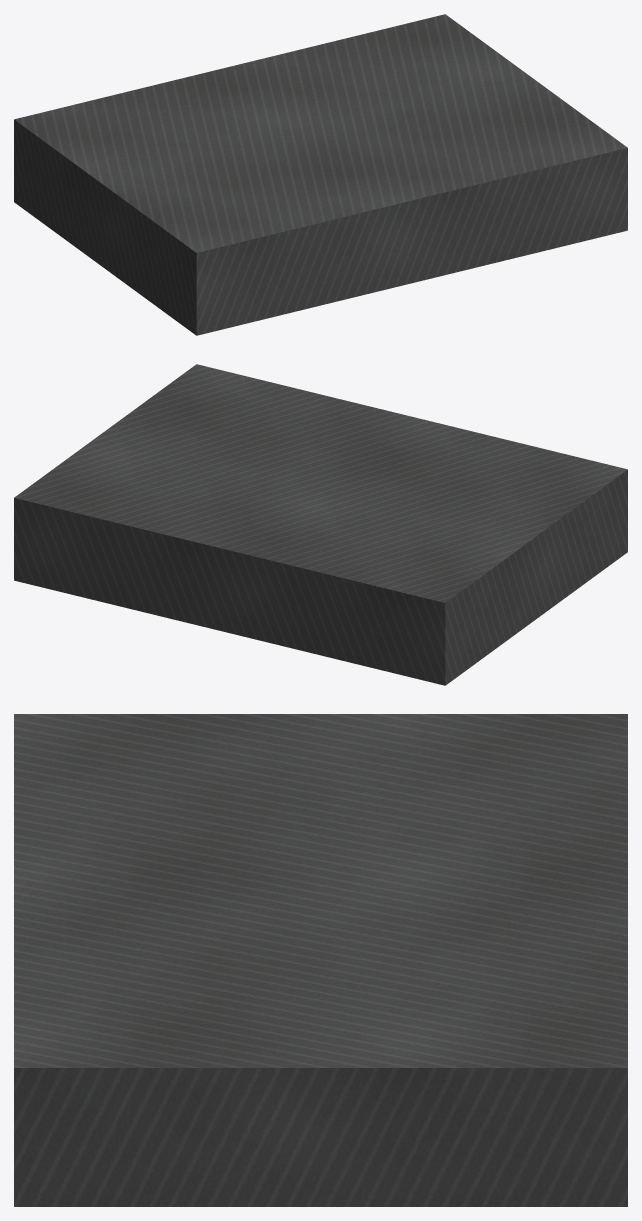
The model's file is binder_v3.glb.
3 views of the same model, one above another, from view 1: azimuth 30°, elevation 25°; view 2: azimuth 150°, elevation 25°; view 3: azimuth 270°, elevation 25° (orthographic). The views are drawn at different scales.
Visible parts, largest first — view 1: Variant_binder_3; view 2: Variant_binder_3; view 3: Variant_binder_3.
Boxes of the visible parts, x1,y1,x2,y2 form: Variant_binder_3: [14, 14, 627, 335]; Variant_binder_3: [14, 364, 627, 685]; Variant_binder_3: [14, 714, 627, 1206].
Size of the model in its own units: 0.3 by 0.055 by 0.22.
Materials: 2 (2 with a texture image).
